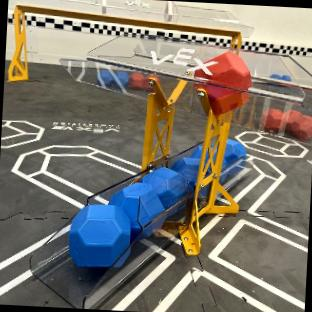V5_BLUE: (69, 203, 130, 266), (111, 181, 161, 238), (143, 168, 187, 207), (171, 156, 198, 187), (222, 138, 244, 165)
V5_RED: (193, 51, 251, 112), (261, 109, 312, 140), (262, 109, 281, 129), (129, 73, 144, 88)
blueingoal: (206, 87, 247, 113)
